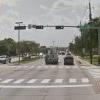Crosswalk: (4, 63, 99, 100)
